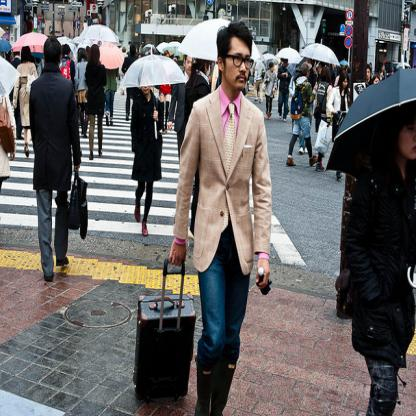backpack: (290, 89, 302, 121), (61, 59, 71, 80)
handbag: (75, 171, 90, 242), (335, 268, 353, 321), (67, 169, 81, 230), (313, 83, 332, 118), (0, 122, 14, 154), (25, 62, 36, 95), (261, 74, 268, 92), (252, 62, 257, 78)
suitcase: (132, 255, 196, 403)
